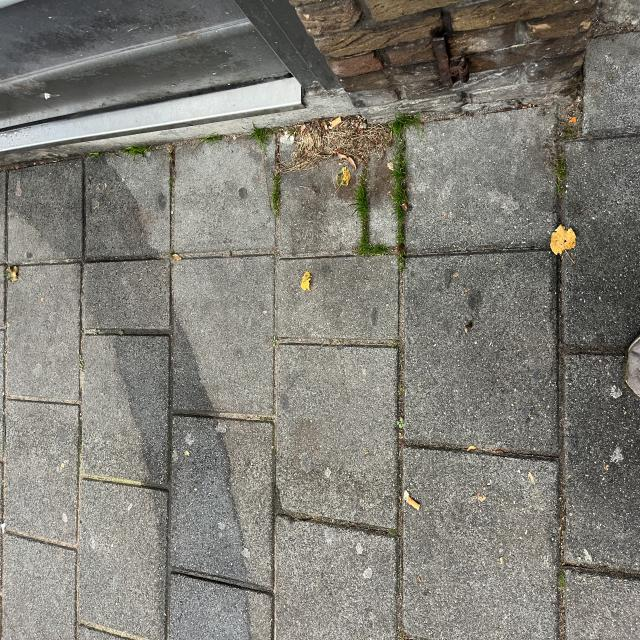leaves: (257, 467, 350, 525)
weed: (222, 363, 246, 525)
weedling: (239, 98, 251, 114)
